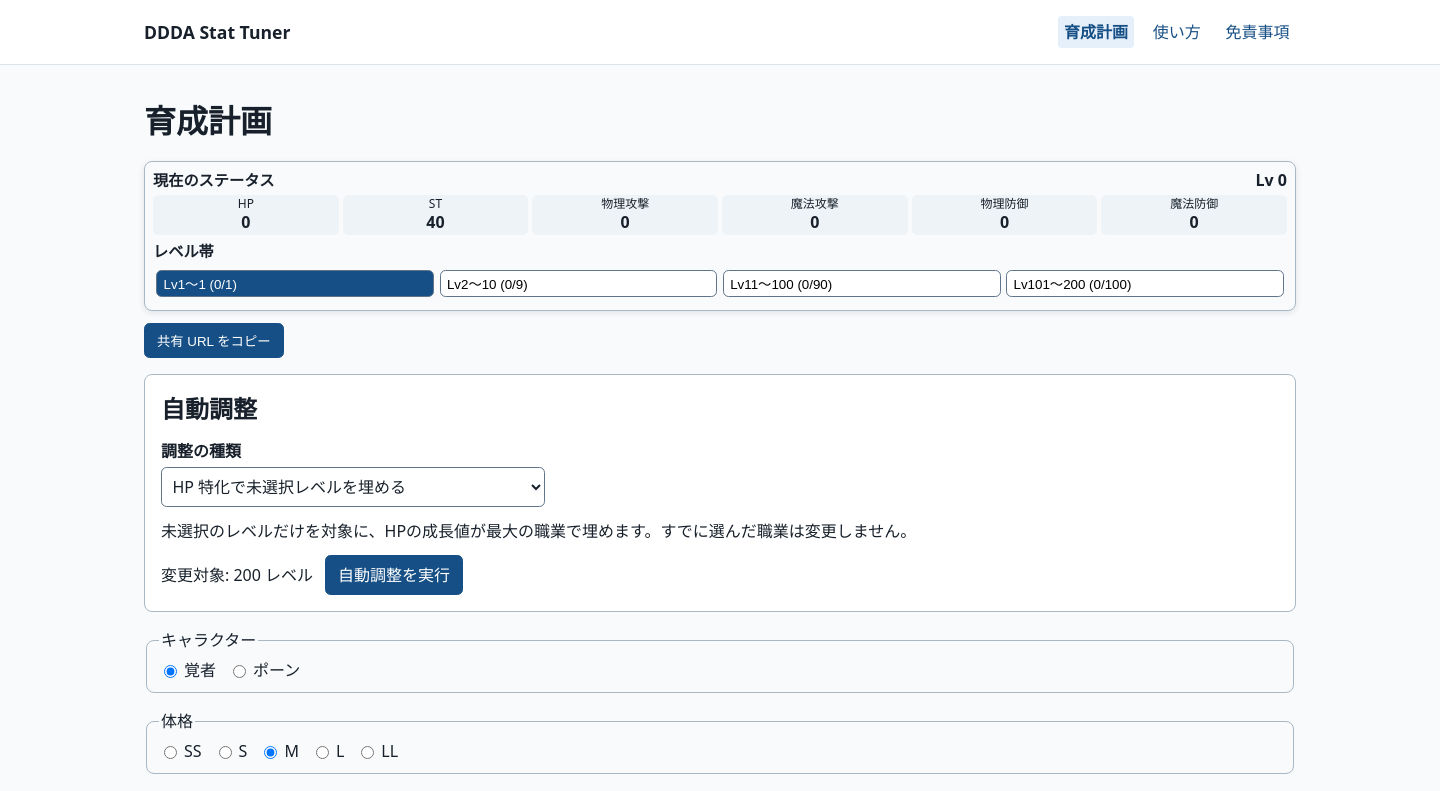
ヘッダーから使い方ページを往復でき、重複する導線がない
expect the heading "育成計画" is shown: met, box x1=144 y1=97 x2=272 y2=145
expect the button "育成計画の使い方" is not shown: met
Click the link "使い方" at (1177,32), box x1=1153 y1=21 x2=1201 y2=43
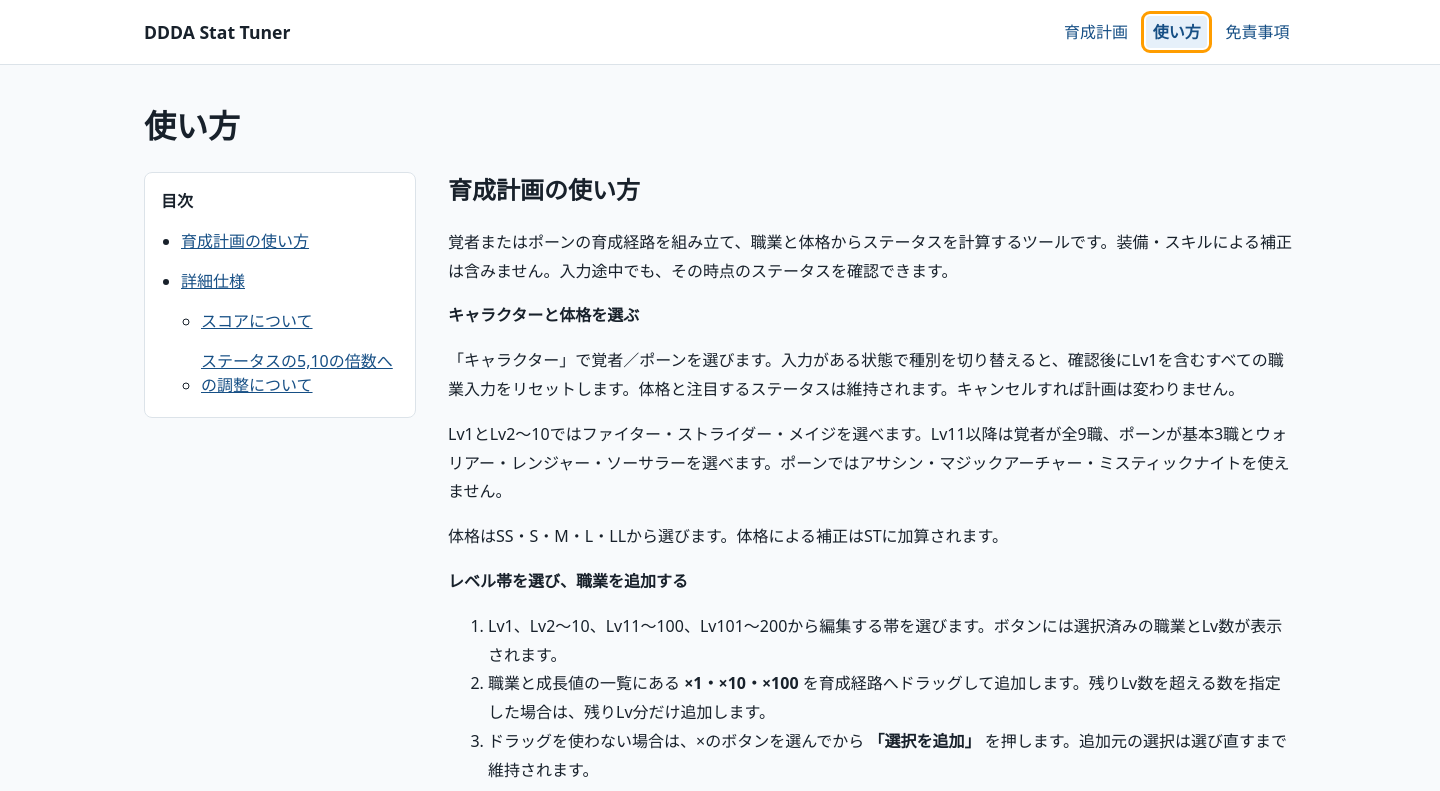
expect the heading "使い方" is shown: met, box x1=144 y1=104 x2=240 y2=147
Click the link "育成計画" at (1096,32), box x1=1064 y1=21 x2=1128 y2=43
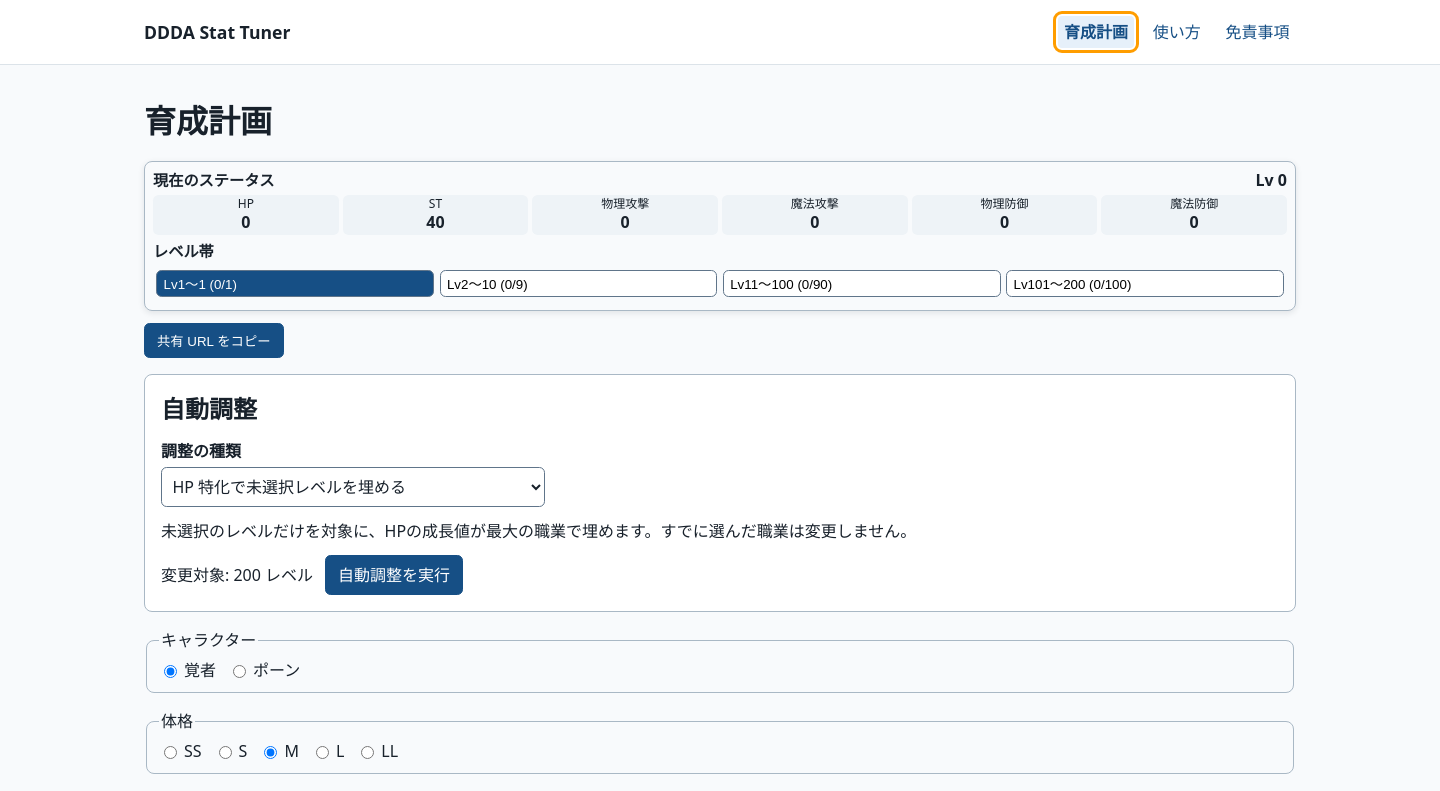
expect the number of links "使い方" is 1: met, box x1=1153 y1=21 x2=1201 y2=43
expect the heading "育成計画" is shown: met, box x1=144 y1=97 x2=272 y2=145
